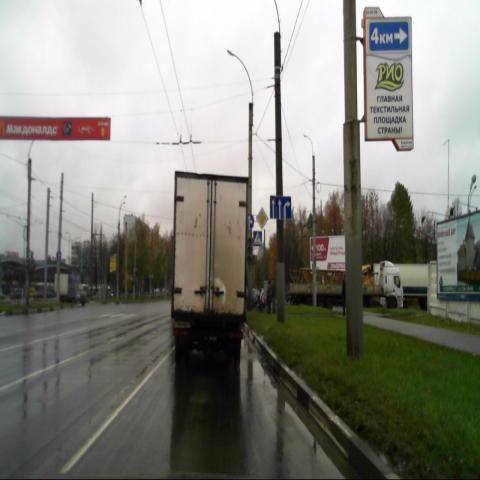5_15_1: (270, 196, 290, 220)
